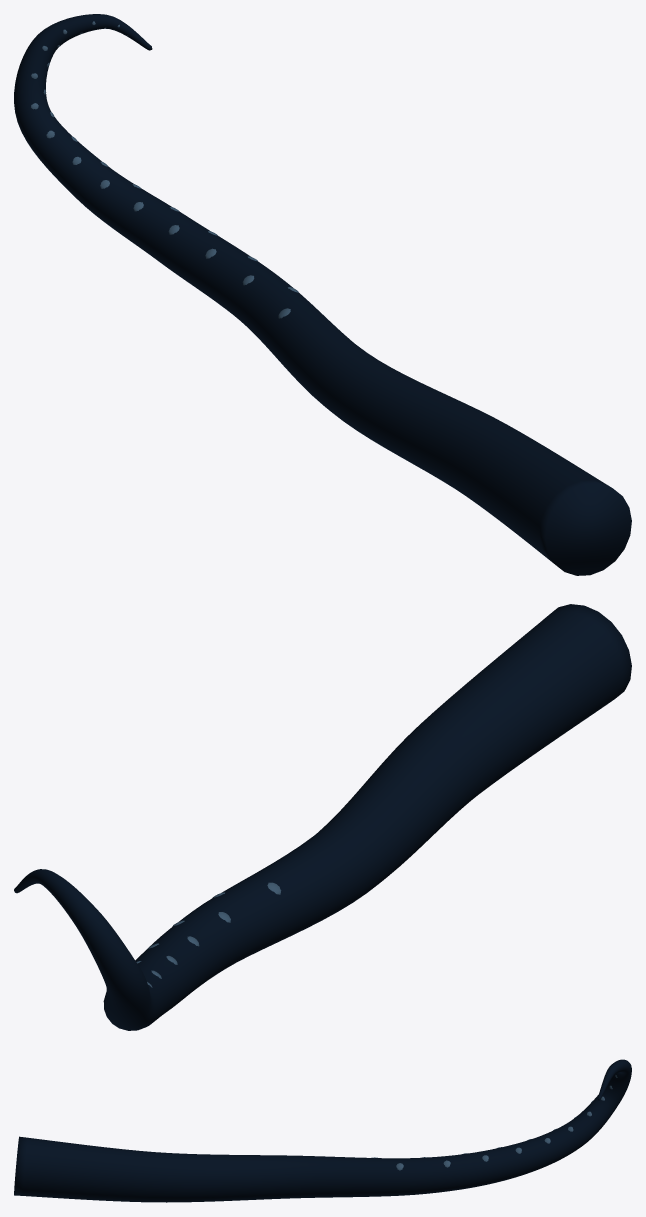
The model's file is hand2.glb.
3 renders of one model, top to bottom at view 1: azimuth 30°, elevation 25°; view 2: azimuth 150°, elevation 25°; view 3: azimuth 270°, elevation 25°, orthographic. The views are drawn at different scales.
Visible parts, largest first — view 1: Hand, HandSuckers; view 2: Hand; view 3: Hand, HandSuckers.
Boxes of the visible parts, x1=… form: Hand: x1=14, y1=14, x2=631, y2=575; HandSuckers: x1=31, y1=21, x2=298, y2=318; Hand: x1=14, y1=604, x2=631, y2=1030; Hand: x1=14, y1=1059, x2=631, y2=1202; HandSuckers: x1=371, y1=1075, x2=617, y2=1170.
Bounding box in the file's own units: 0.296 × 0.46 × 1.95.
